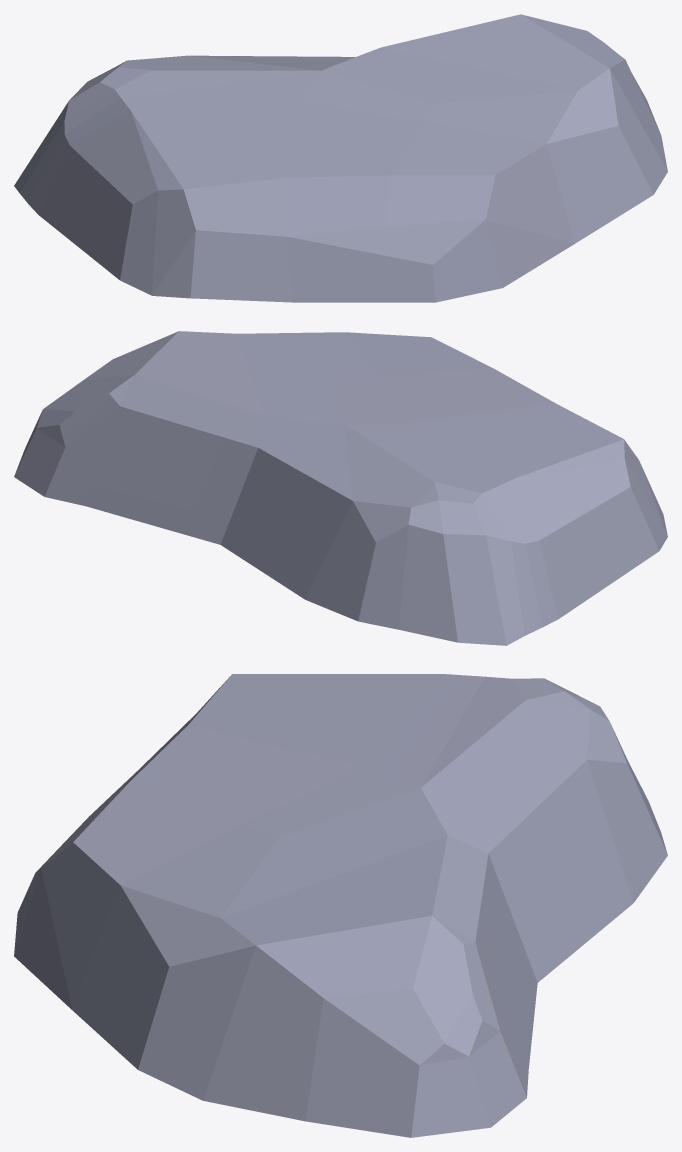
The model's file is quaternius-nature__Pebble_Round_1.fbx.
3 views of the same model, one above another, from view 1: azimuth 30°, elevation 25°; view 2: azimuth 150°, elevation 25°; view 3: azimuth 270°, elevation 25° (orthographic). The views are drawn at different scales.
Visible parts, largest first — view 1: quaternius-nature__Pebble_Round_1__cave_stone; view 2: quaternius-nature__Pebble_Round_1__cave_stone; view 3: quaternius-nature__Pebble_Round_1__cave_stone.
Part boxes in pixels (<box>): quaternius-nature__Pebble_Round_1__cave_stone: <box>14,14,667,302</box>; quaternius-nature__Pebble_Round_1__cave_stone: <box>14,331,667,645</box>; quaternius-nature__Pebble_Round_1__cave_stone: <box>14,674,667,1137</box>.
Size of the model in its own units: 1.79 by 0.341 by 1.31.
